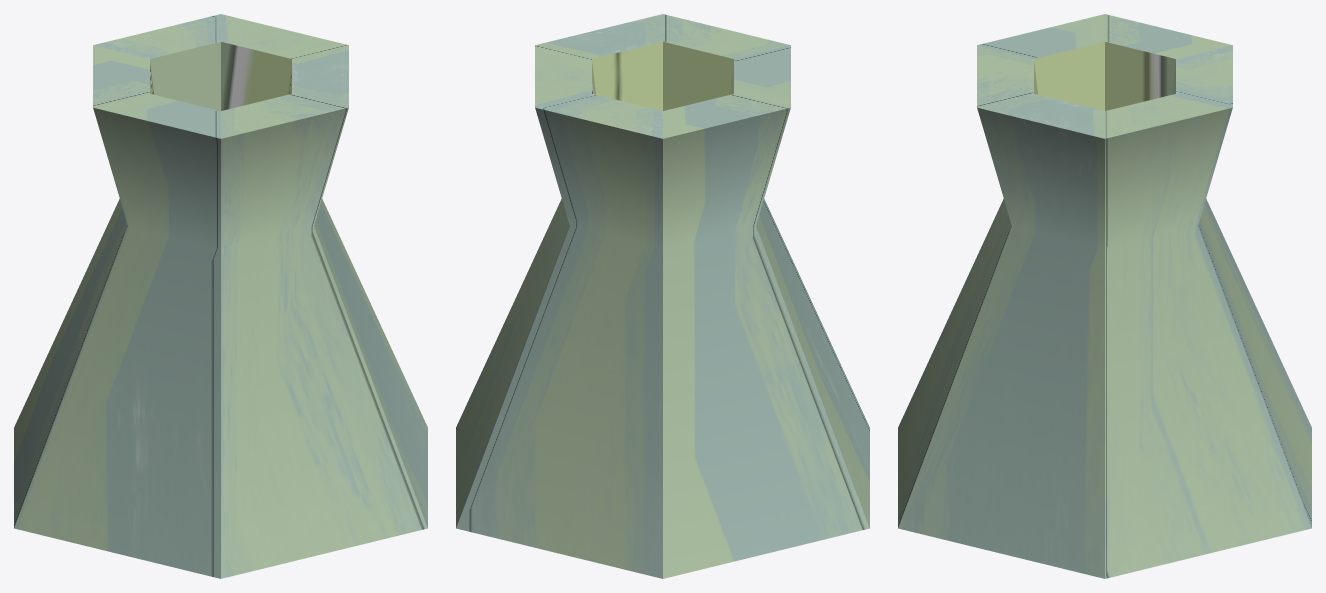
The model's file is FatChiminy.fbx.
3 renders of one model, left to right at view 1: azimuth 30°, elevation 25°; view 2: azimuth 150°, elevation 25°; view 3: azimuth 270°, elevation 25°, orthographic.
Visible parts, largest first — view 1: Fat_Chimny; view 2: Fat_Chimny; view 3: Fat_Chimny.
Boxes of the visible parts, x1=… form: Fat_Chimny: x1=14, y1=14, x2=427, y2=578; Fat_Chimny: x1=456, y1=14, x2=869, y2=578; Fat_Chimny: x1=898, y1=14, x2=1311, y2=578.
Size of the model in its own units: 19.6 by 18.17 by 16.97.
